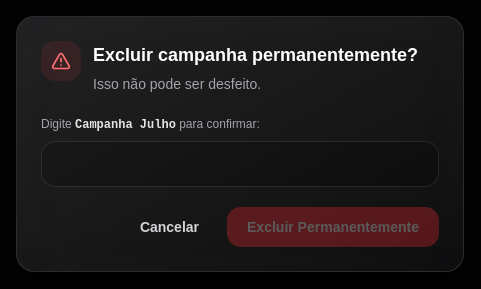
Test: TypeToConfirmDialog › tolera espaço sobrando nas pontas
Type "  Campanha Julho  " into the field labelled "Digite Campanha Julho para confirmar:" at (240, 164), box [41,141,439,187]
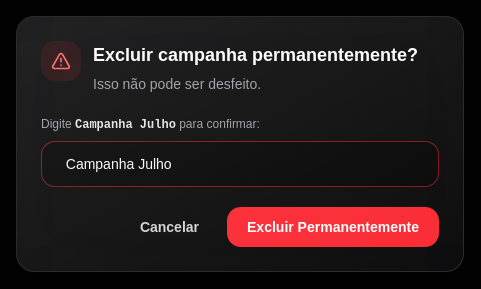
Expected: the button "Excluir Permanentemente" is enabled, [227,207,439,247]
